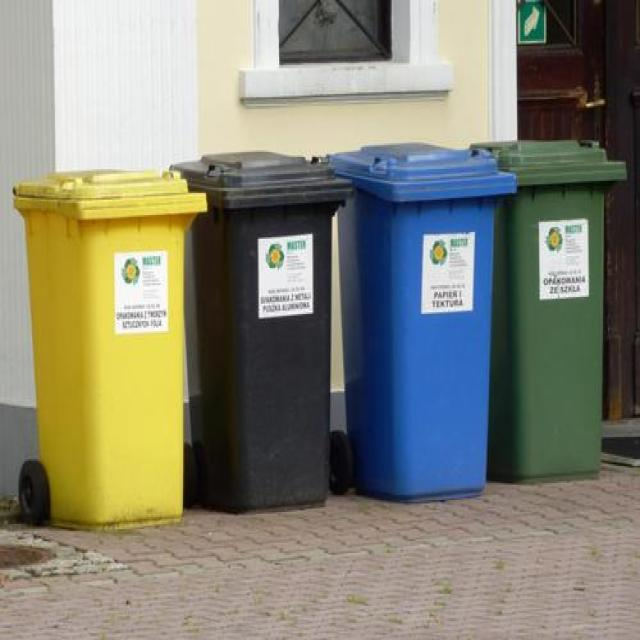garbage_bin: (10, 168, 206, 528), (322, 142, 518, 498), (166, 150, 354, 512), (468, 137, 624, 483)
